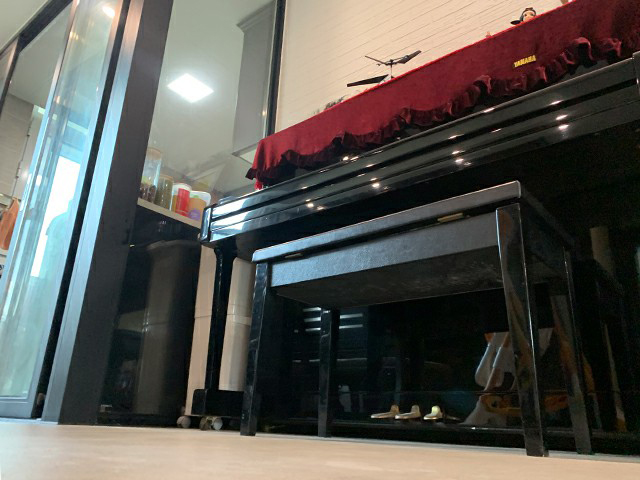stool: (238, 180, 595, 457)
